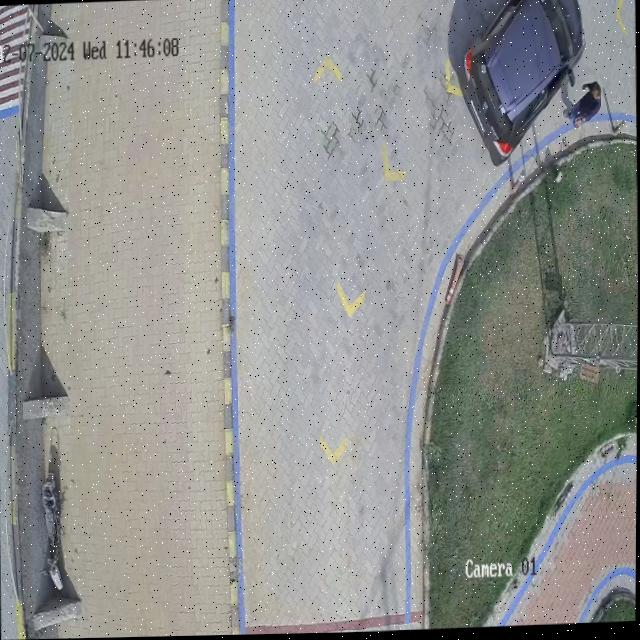car: (457, 0, 585, 166)
